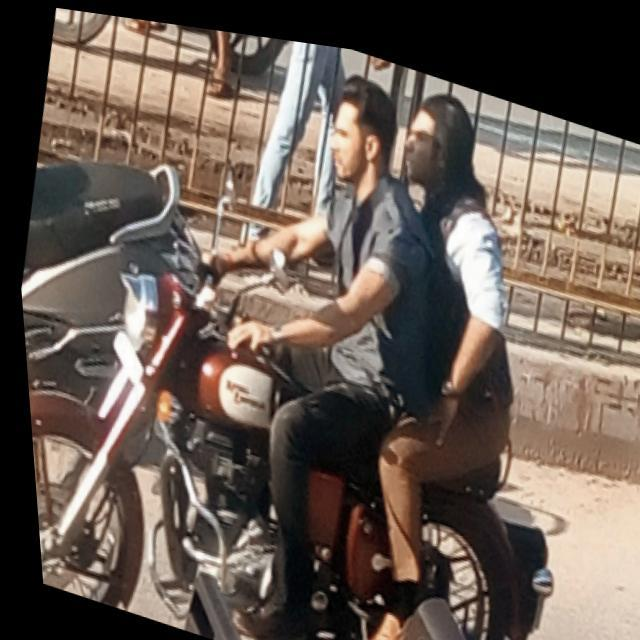Nonhelmet: (397, 88, 486, 210), (323, 74, 394, 206)
